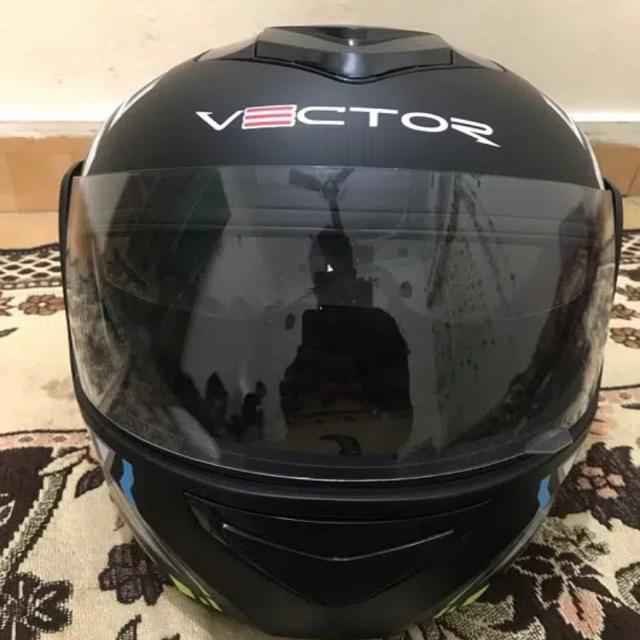Helmet: (89, 27, 598, 629)
